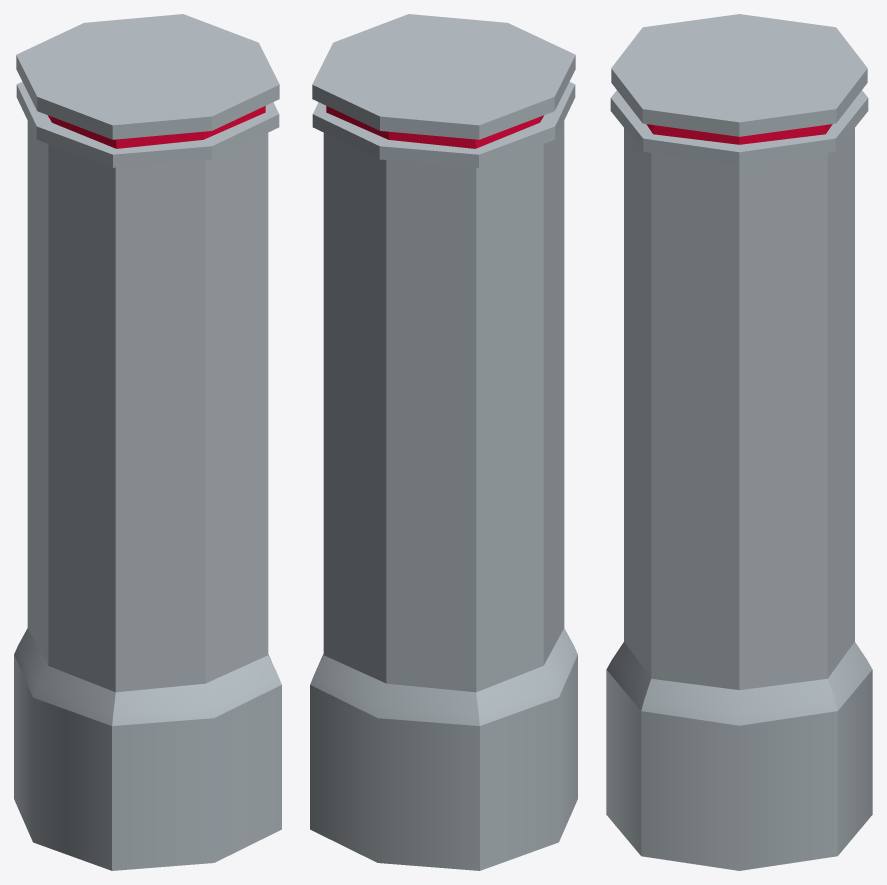
Rendered from anti-kaiju-barrier.fbx.
3 views of the same model, side by side, from view 1: azimuth 30°, elevation 25°; view 2: azimuth 150°, elevation 25°; view 3: azimuth 270°, elevation 25° (orthographic).
Visible parts, largest first — view 1: pCube1; view 2: pCube1; view 3: pCube1.
Part boxes in pixels (<box>): pCube1: <box>14,14,281,870</box>; pCube1: <box>310,14,577,870</box>; pCube1: <box>606,14,872,870</box>.
Bounding box in the file's own units: 0.4057 × 1.26 × 0.4057.
